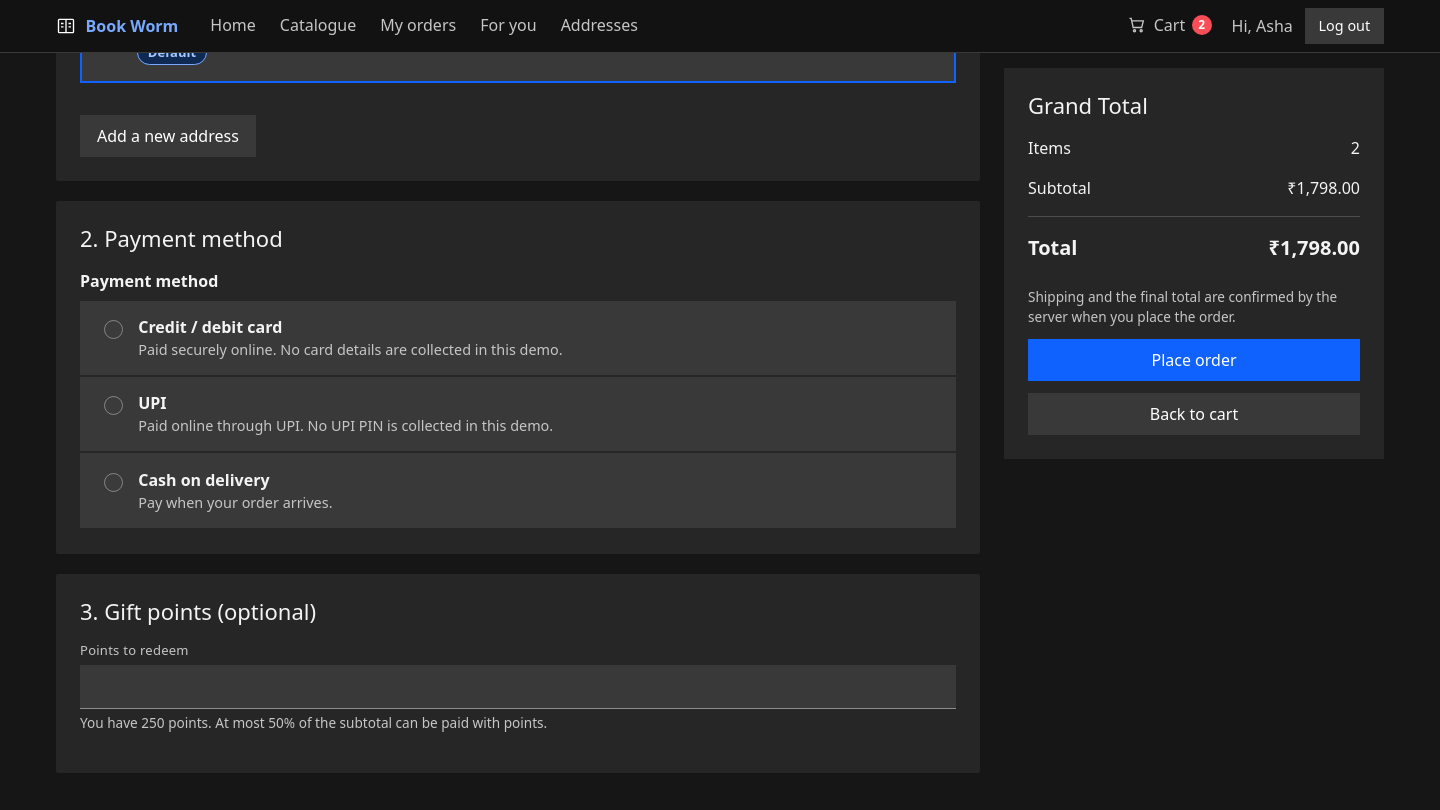
Test: Journey: checkout, payment and confirmation › never shows success when the payment is declined, and explains the order was cancelled
This screenshot has width=1440, height=810.
(page scrolled)
What coordinates should you click on to do the following:
click the radio button labelled "UPI"
I would click on:
 (114, 406)
Its box is [104,396,123,415].
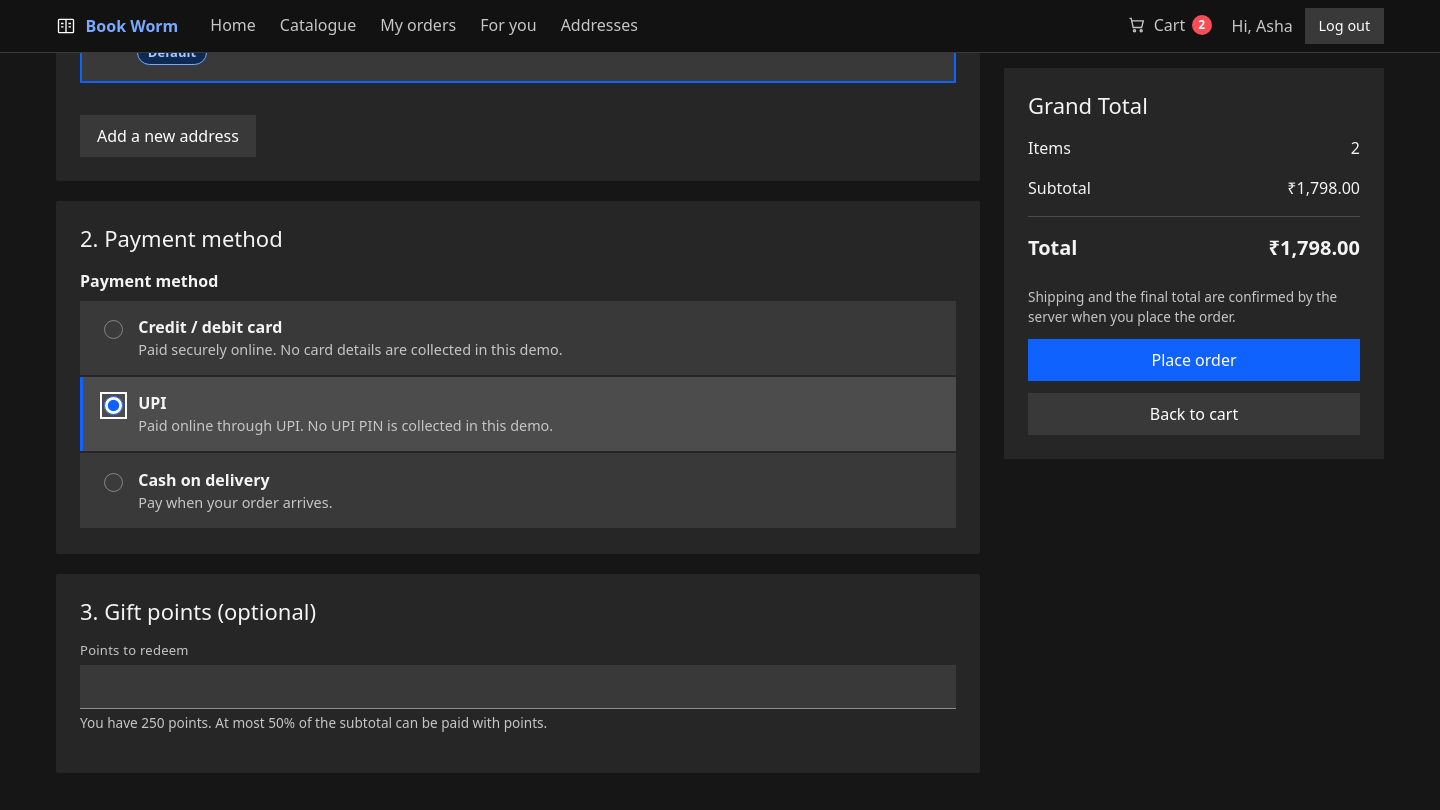
What coordinates should you click on to do the following:
click the button "Place order"
I would click on:
 (1194, 360)
Its box is [1028,339,1360,381].
(page scrolled)
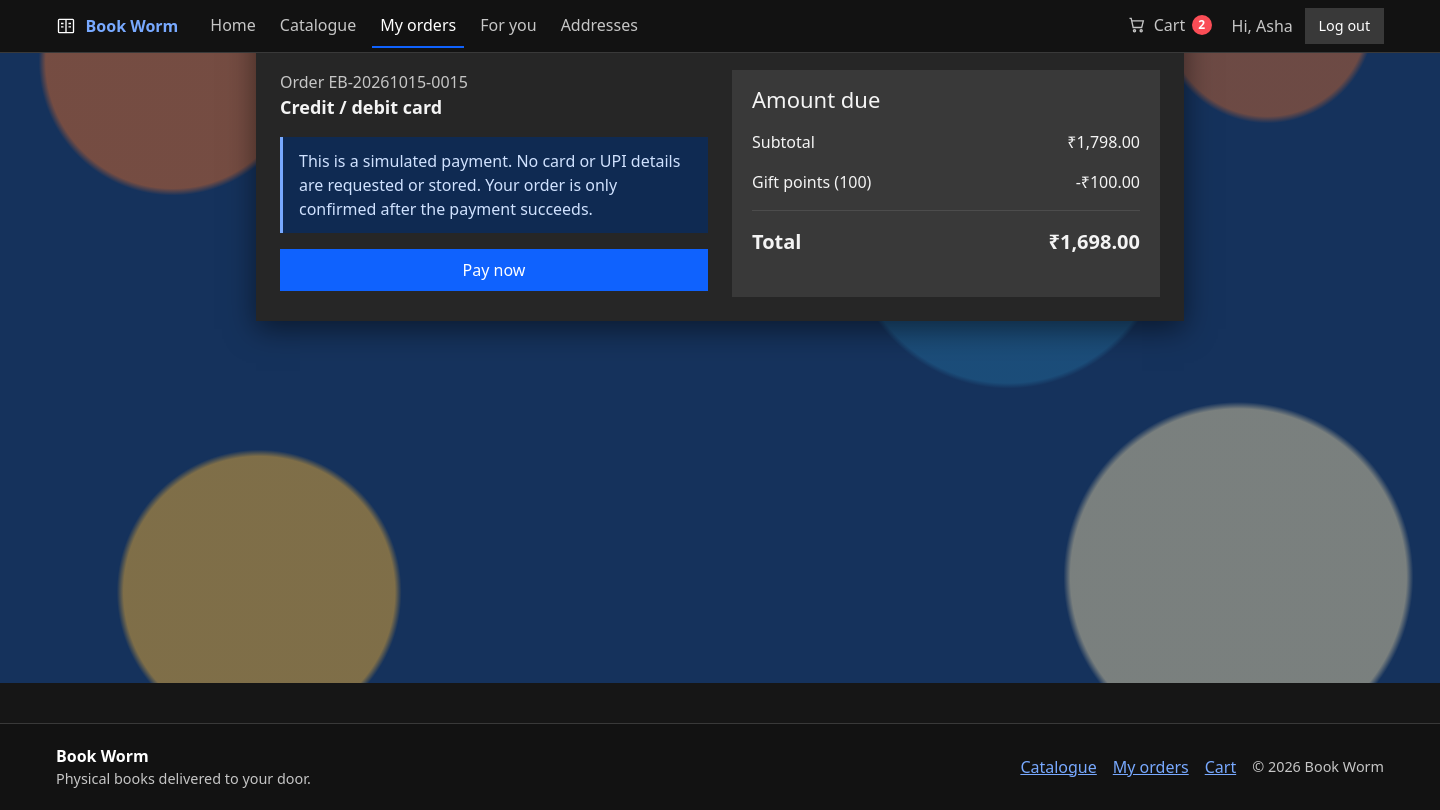
What coordinates should you click on to do the following:
click the button "Pay now"
I would click on:
 (494, 270)
Its box is [280,249,708,291].
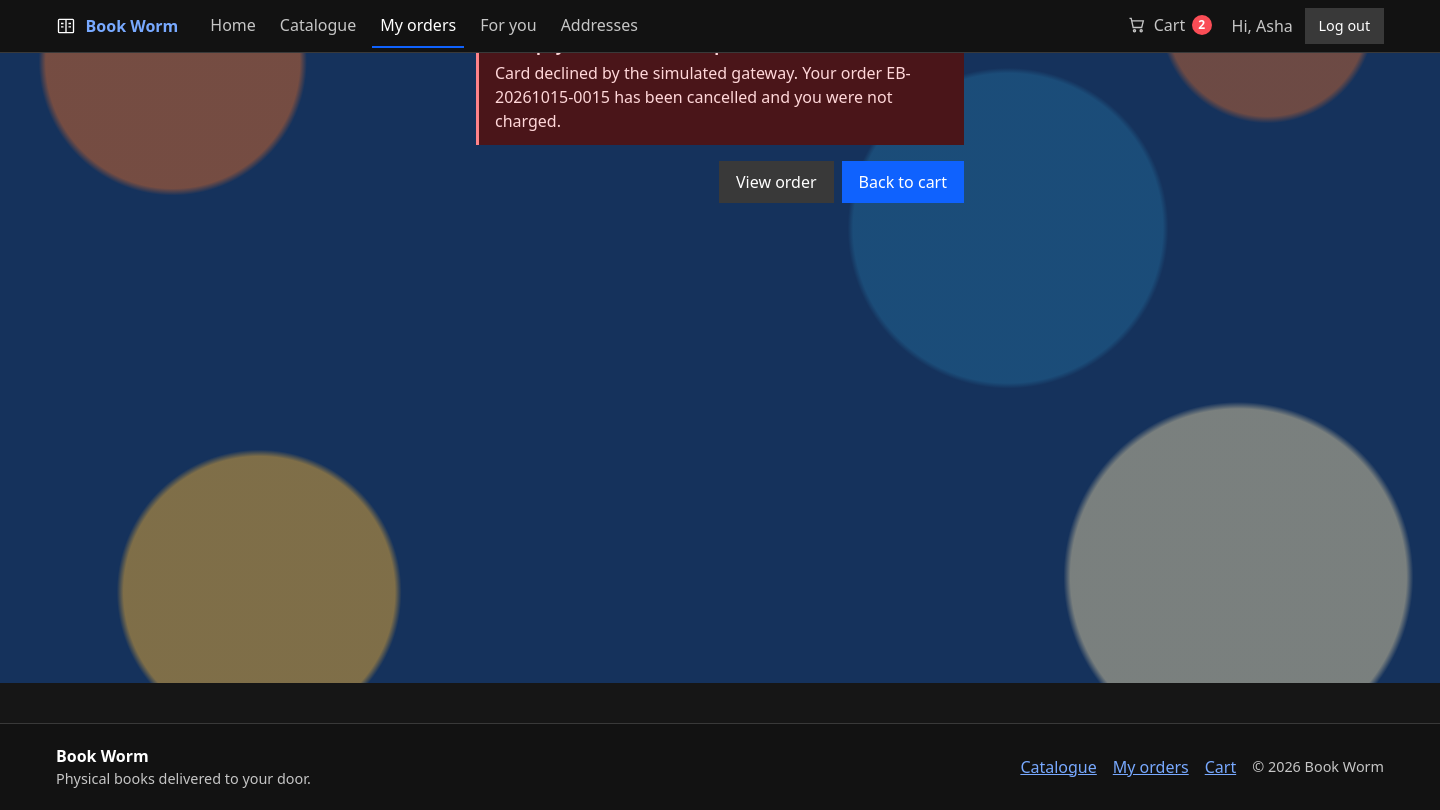
Expected: the text "Your payment was not accepted" is shown, [495,34,751,56]
Expected: the text "Card declined by the simulated gateway" is shown, [495,62,911,132]
